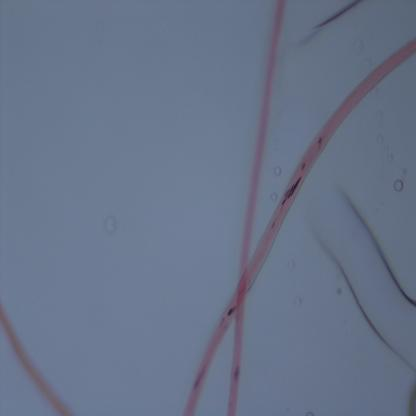Background material: (312, 184, 416, 374), (298, 0, 360, 41), (97, 212, 119, 235), (403, 376, 416, 414), (392, 177, 407, 193), (294, 292, 306, 312), (274, 162, 282, 176), (269, 190, 277, 202)
Microfibre: (181, 34, 416, 414), (225, 0, 287, 416), (0, 307, 74, 415)
